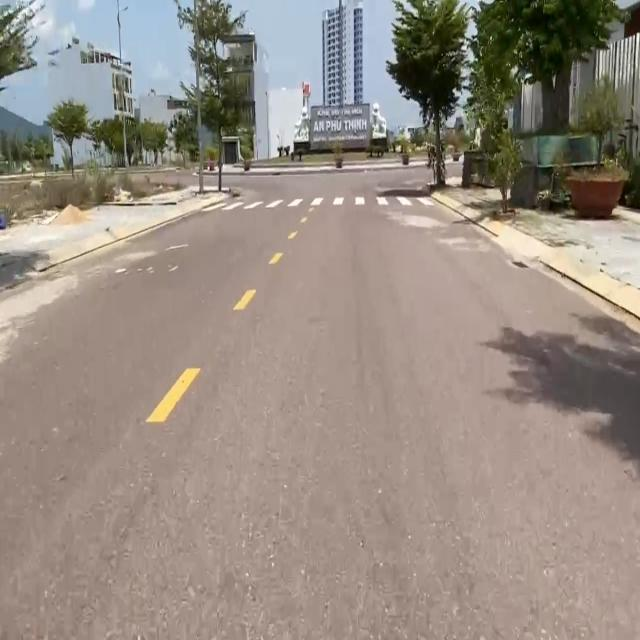walk-crossing: (204, 191, 434, 213)
